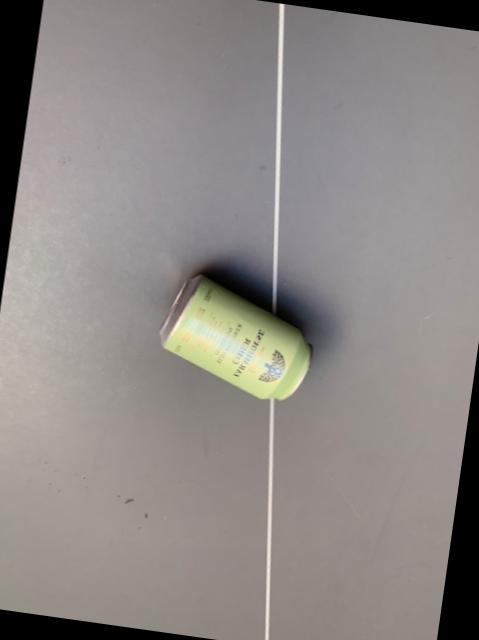metal: (158, 276, 310, 400)
